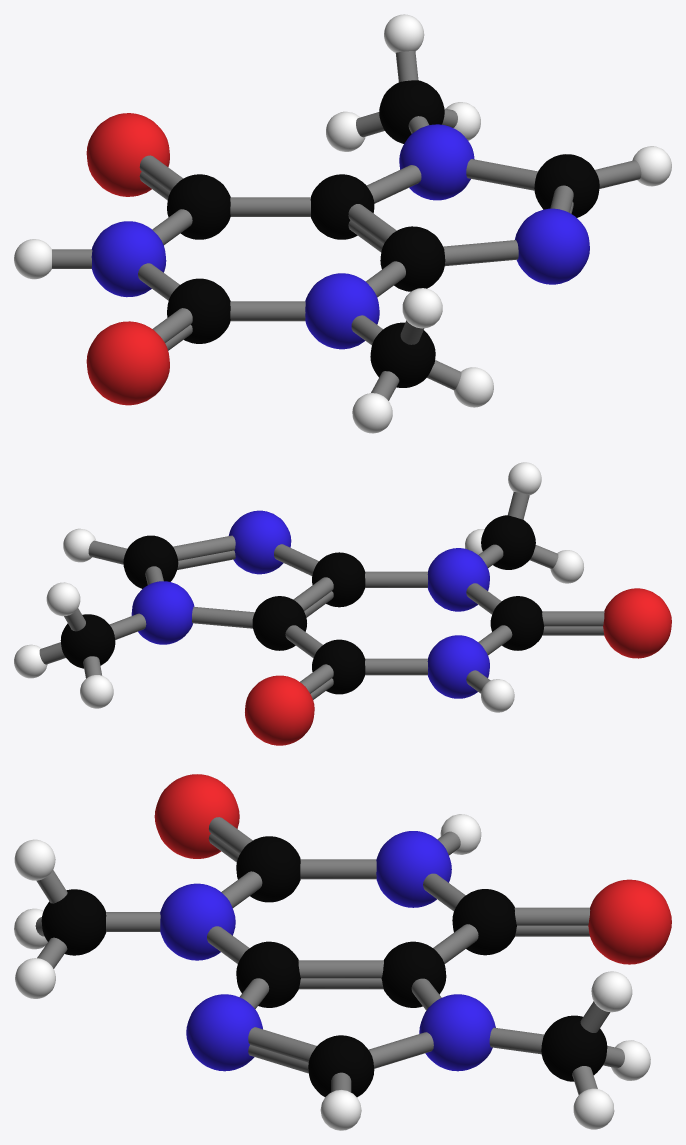
3 views of the same model, one above another, from view 1: azimuth 30°, elevation 25°; view 2: azimuth 150°, elevation 25°; view 3: azimuth 270°, elevation 25° (orthographic). The views are drawn at different scales.
Visible parts, largest first — view 1: Theobromine; view 2: Theobromine; view 3: Theobromine.
Part boxes in pixels (x1,y1,x2,y2): Theobromine: (14, 14, 671, 433); Theobromine: (14, 462, 671, 745); Theobromine: (14, 774, 671, 1130).
Bounding box in the file's own units: 1.5 × 0.2858 × 1.3.
Materials: 1 (1 with a texture image).
